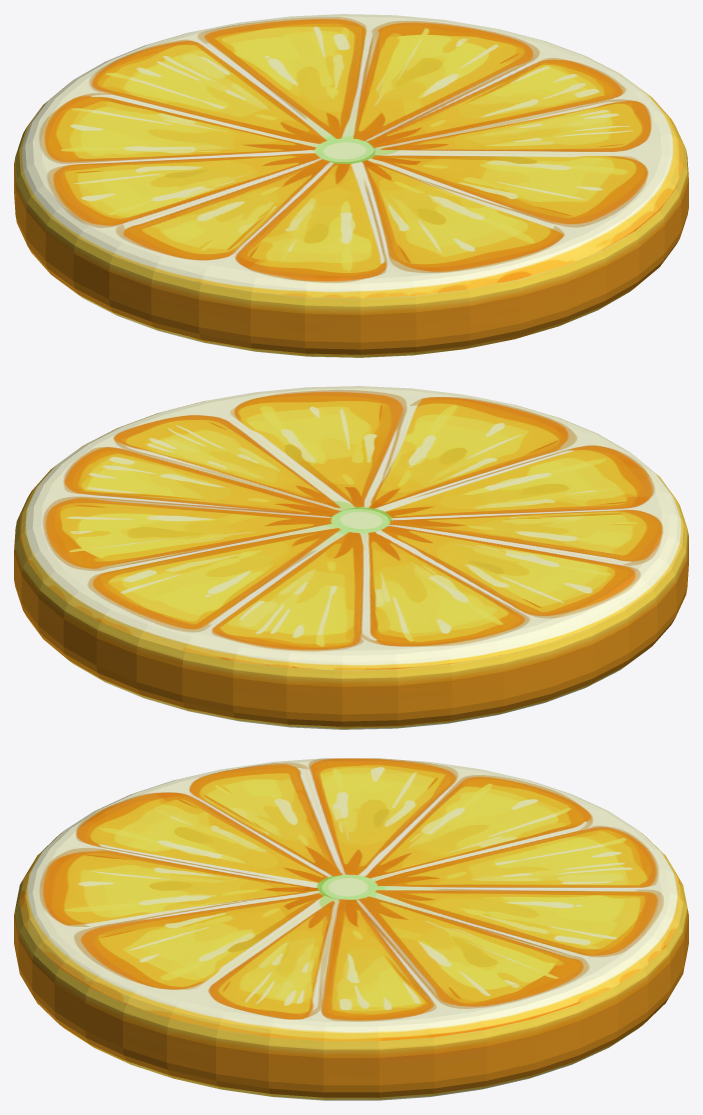
Rendered from lemon-slice.glb.
3 views of the same model, one above another, from view 1: azimuth 30°, elevation 25°; view 2: azimuth 150°, elevation 25°; view 3: azimuth 270°, elevation 25° (orthographic).
Parts seen in each view (by area): view 1: Cylinder; view 2: Cylinder; view 3: Cylinder.
Boxes of the visible parts, box(x1,y1,x2,y2) form: Cylinder: box(14, 14, 688, 357); Cylinder: box(14, 386, 688, 729); Cylinder: box(14, 758, 688, 1100).
Size of the model in its own units: 1.99 by 0.25 by 2.
1 material, 1 textured.
